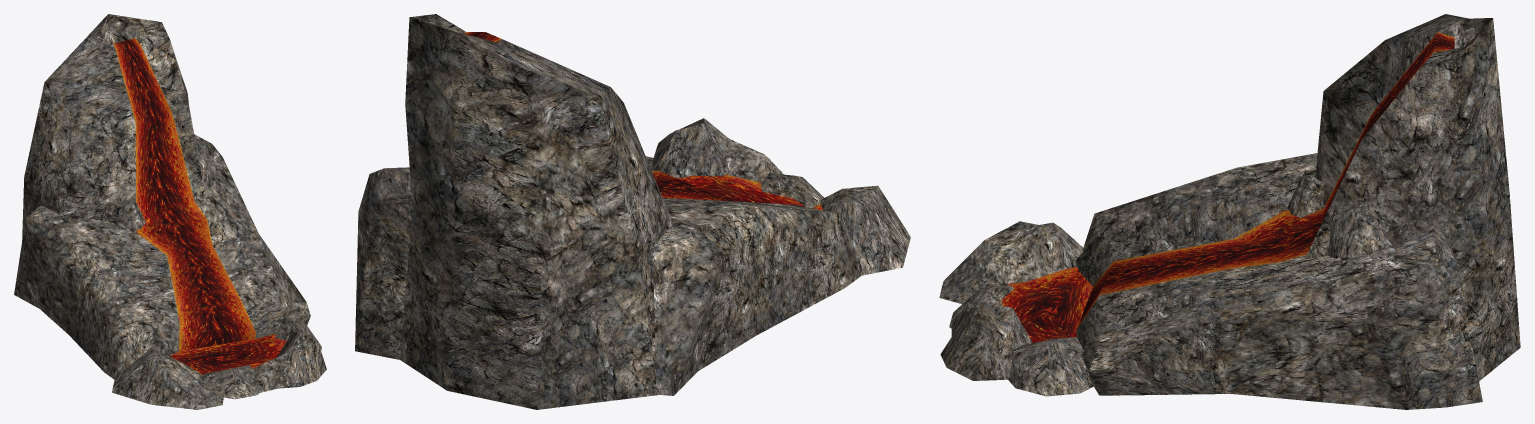
The model's file is pir_m_prp_cav_lavafall_large.fbx.
3 views of the same model, side by side, from view 1: azimuth 30°, elevation 25°; view 2: azimuth 150°, elevation 25°; view 3: azimuth 270°, elevation 25° (orthographic). The views are drawn at different scales.
Visible parts, largest first — view 1: rock_base, rock_peak, lavaStream, rock, lavaPool; view 2: rock_peak, rock_base, rock, lavaPool, lavaStream; view 3: rock_base, rock_peak, rock, lavaStream, lavaPool.
Part boxes in pixels (x1,y1,x2,y2): rock_base: [14, 134, 310, 379]; rock_peak: [22, 14, 206, 241]; lavaStream: [113, 38, 256, 351]; rock: [112, 148, 326, 409]; lavaPool: [170, 334, 286, 374]; rock_peak: [400, 14, 672, 409]; rock_base: [355, 167, 861, 395]; rock: [646, 118, 910, 275]; lavaPool: [677, 174, 822, 210]; lavaStream: [463, 32, 729, 201]; rock_base: [1076, 153, 1482, 409]; rock_peak: [1305, 14, 1520, 381]; rock: [939, 174, 1391, 396]; lavaStream: [1077, 32, 1454, 328]; lavaPool: [1001, 267, 1092, 342].
Size of the model in its own units: 2953 by 2861 by 4468.
Materials: 2 (2 with a texture image).
